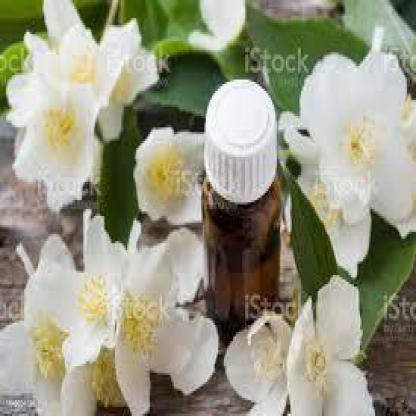Melati: (9, 208, 198, 412), (264, 44, 416, 231), (222, 269, 376, 415), (9, 6, 131, 190), (123, 117, 213, 208)
